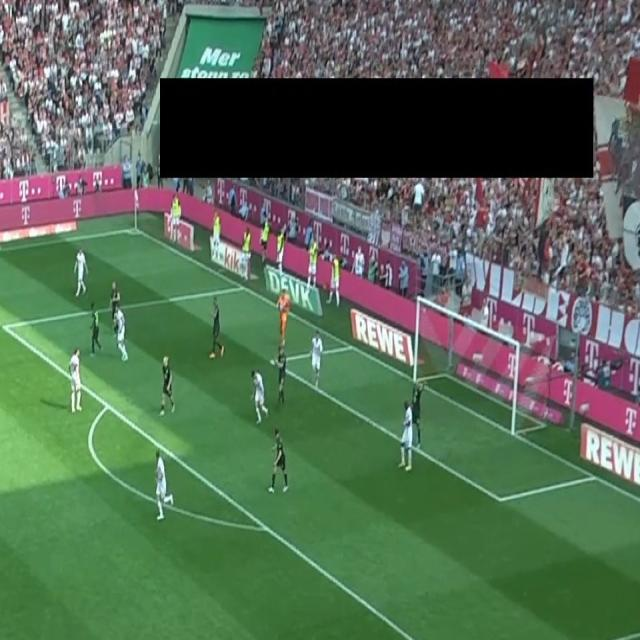ball: (279, 301, 284, 312)
